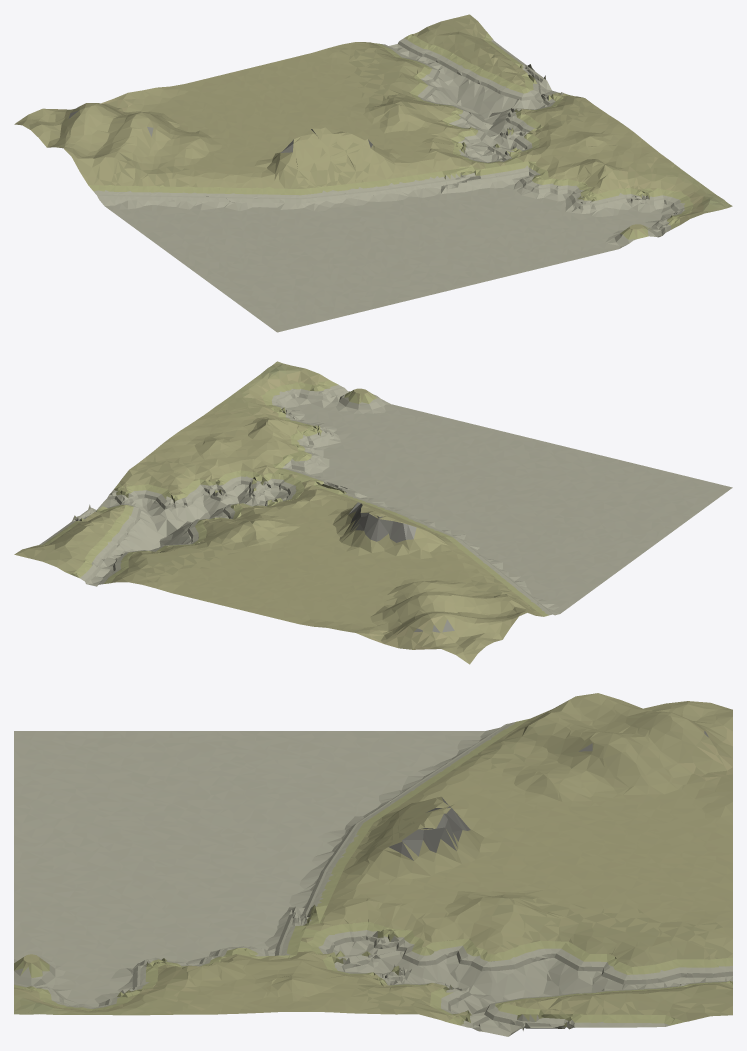
Rendered from Ground_-1_-1.glb.
The picture shows the model from 3 angles, top to bottom: view 1: azimuth 30°, elevation 25°; view 2: azimuth 150°, elevation 25°; view 3: azimuth 270°, elevation 25°; orthographic projection. The views are drawn at different scales.
Parts seen in each view (by area): view 1: Ground_-1_-1; view 2: Ground_-1_-1; view 3: Ground_-1_-1.
Part boxes in pixels (bbox=[...]): Ground_-1_-1: bbox=[14, 14, 732, 332]; Ground_-1_-1: bbox=[14, 361, 732, 664]; Ground_-1_-1: bbox=[14, 693, 732, 1036].
Bounding box in the file's own units: 768 × 85.91 × 768.
